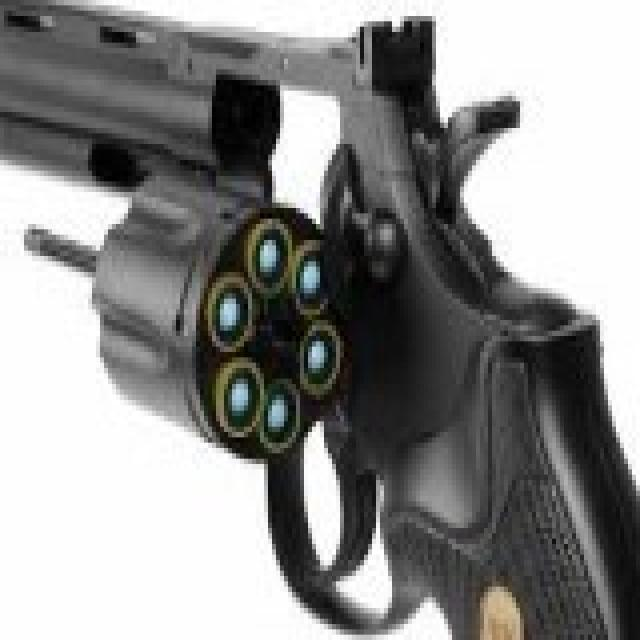Gun: (12, 0, 632, 635)
